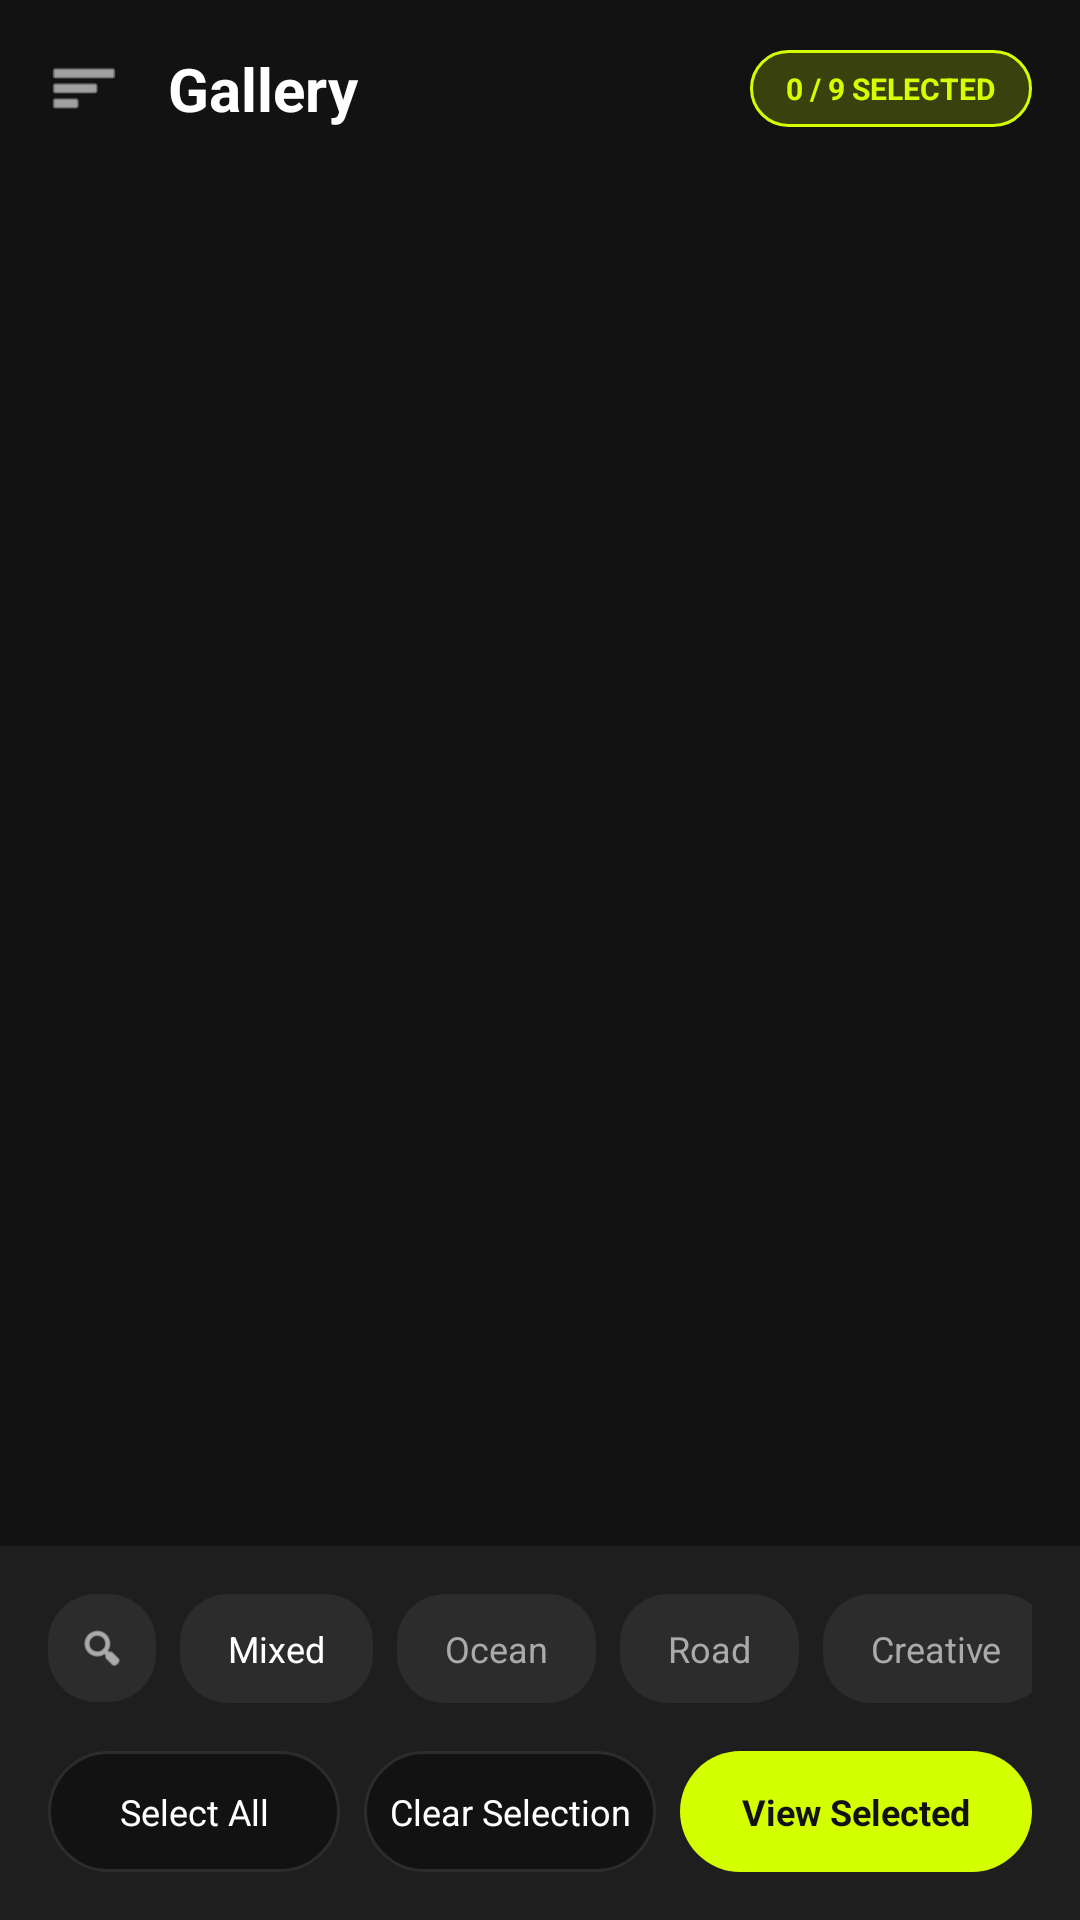

Locate icon controls on the screen. Image size 1080 x 1920, boxes as bbox=[x1, y1, x2, y2].
search: bbox=[84, 1630, 120, 1666]
sort by size: bbox=[53, 68, 115, 109]
